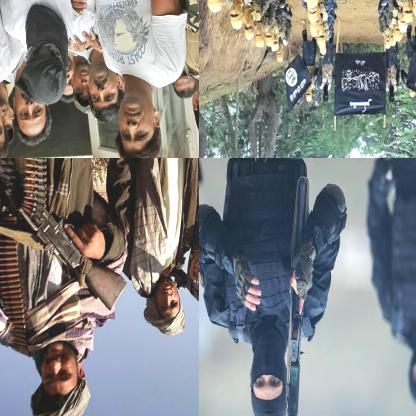rifle: (0, 158, 128, 312), (279, 176, 308, 415), (171, 256, 198, 373)
